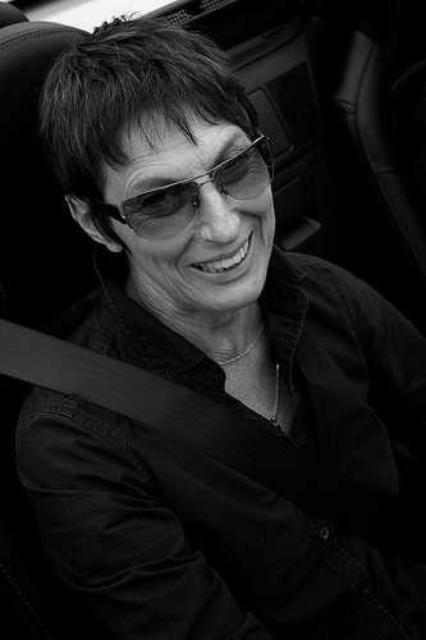SafeDriving: (132, 180, 198, 227)
Seatbelt: (1, 314, 192, 444)
